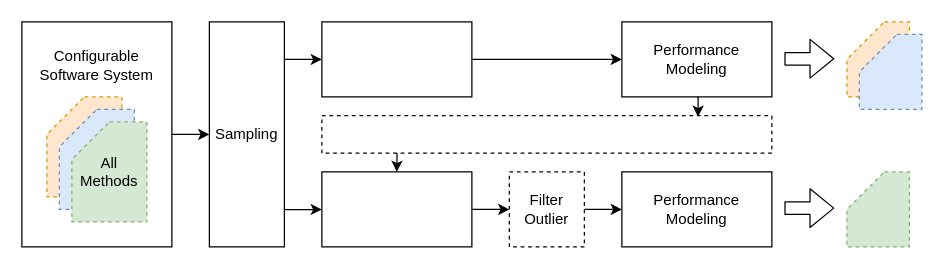
Some shapes in this 944 by 269 pixel diagram are drawn without their labels. Here are the shapes that lost their labels. From the top down, the centre of each, then its label:
[396,59]: Profiling ( coarse-grained )
[546,133]: Filter Methods
[396,209]: Profiling (fine-grained)
